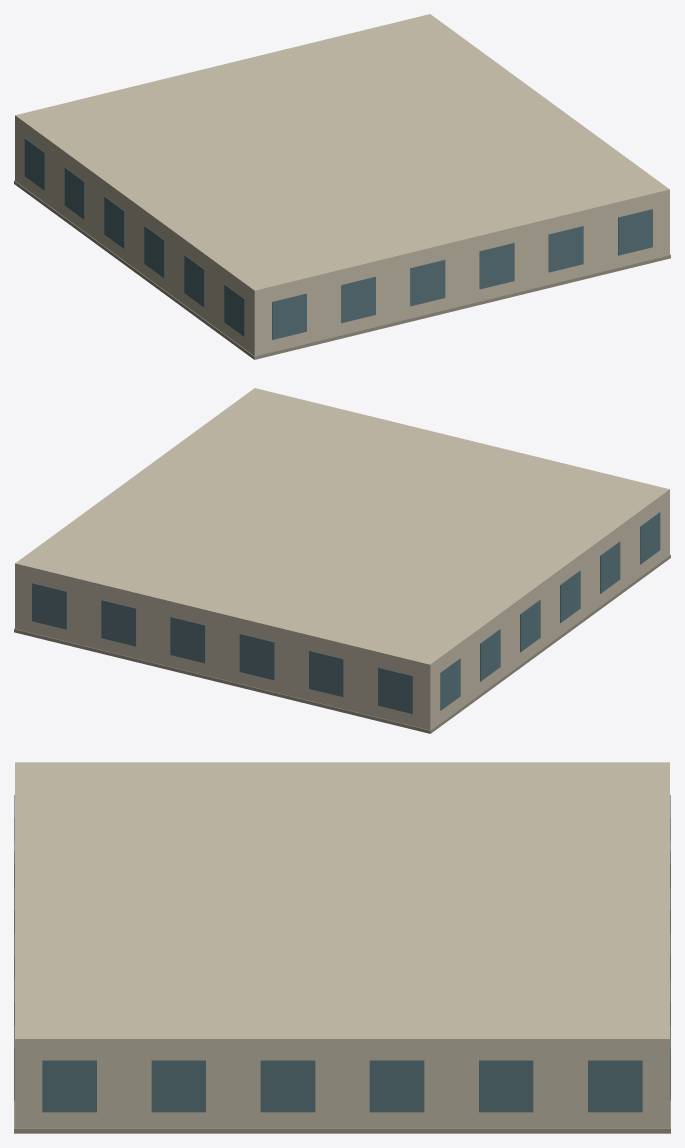
File: tw_stone_24_floor_lod1.glb
3 renders of one model, top to bottom at view 1: azimuth 30°, elevation 25°; view 2: azimuth 150°, elevation 25°; view 3: azimuth 270°, elevation 25°, orthographic. The views are drawn at different scales.
Parts seen in each view (by area): view 1: tw_stone_24_floor_lod1; view 2: tw_stone_24_floor_lod1; view 3: tw_stone_24_floor_lod1.
Boxes of the visible parts, left/top/right/bottom form: tw_stone_24_floor_lod1: left=14, top=14, right=670, bottom=359; tw_stone_24_floor_lod1: left=14, top=388, right=670, bottom=733; tw_stone_24_floor_lod1: left=14, top=762, right=670, bottom=1133.
Bounding box in the file's own units: 24.08 × 3.8 × 24.08.
2 materials, 2 textured.
